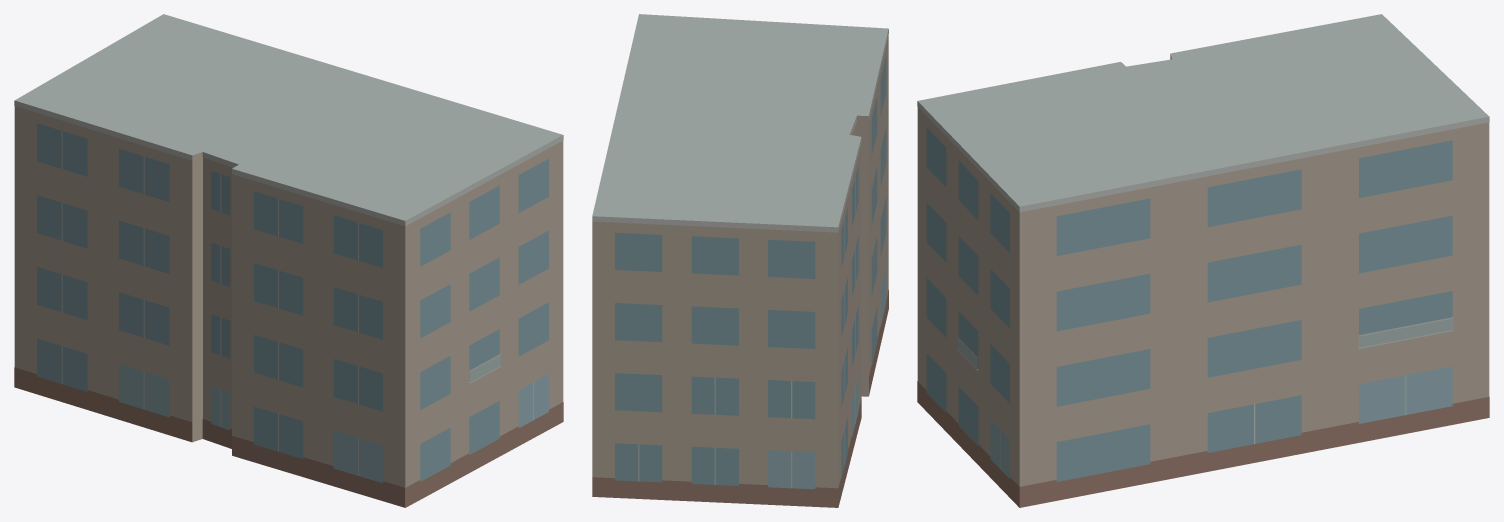
The model's file is survey-upis-32926057.glb.
3 views of the same model, side by side, from view 1: azimuth 30°, elevation 25°; view 2: azimuth 150°, elevation 25°; view 3: azimuth 270°, elevation 25° (orthographic). The views are drawn at different scales.
Parts seen in each view (by area): view 1: survey-upis-32926057.tmp; view 2: survey-upis-32926057.tmp; view 3: survey-upis-32926057.tmp.
Boxes of the visible parts, box(x1,y1,x2,y2) form: survey-upis-32926057.tmp: box(14, 14, 563, 507); survey-upis-32926057.tmp: box(592, 14, 888, 507); survey-upis-32926057.tmp: box(917, 14, 1489, 507).
Size of the model in its own units: 17.72 by 12.9 by 22.22.
